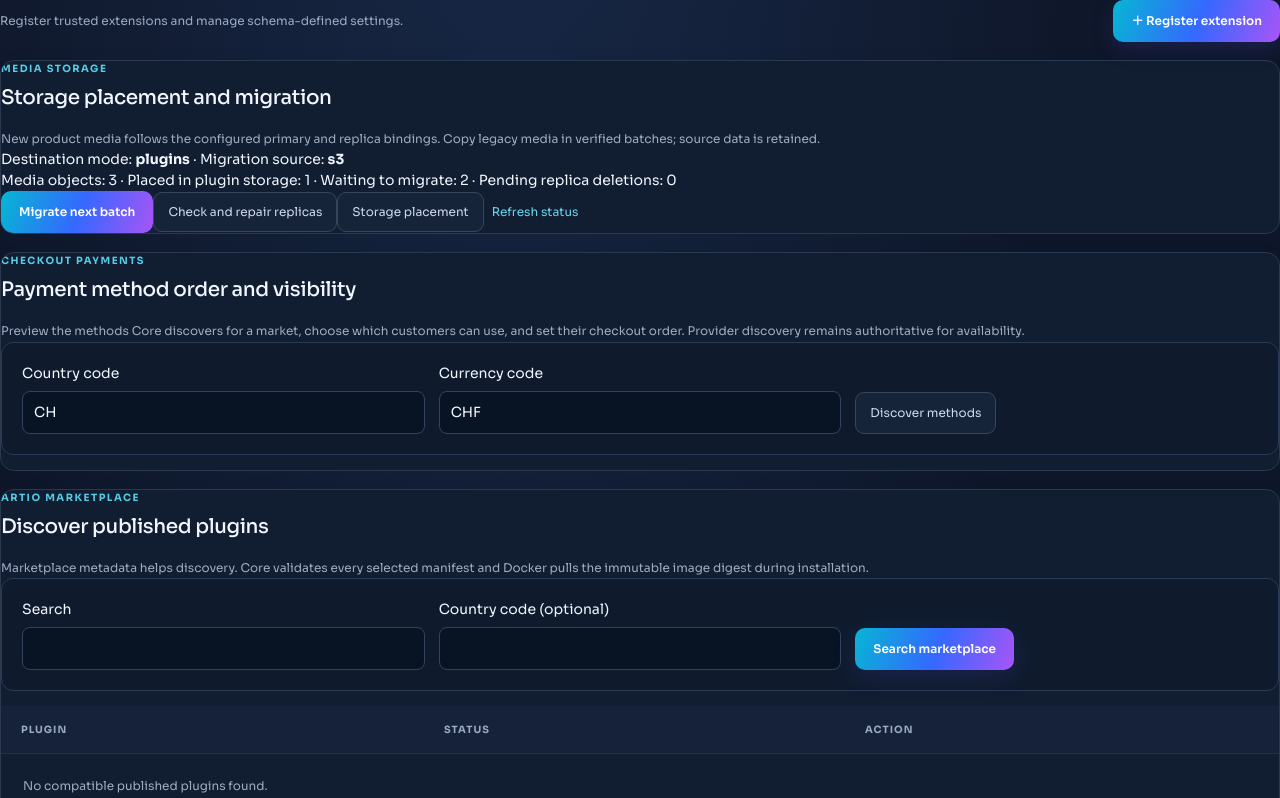
Test case: ExtensionAdminComponent › shows storage placement status and advances verified migration one bounded batch at a time
Click the button "Migrate next batch": (77, 212) top-left (1, 191), bottom-right (153, 233)
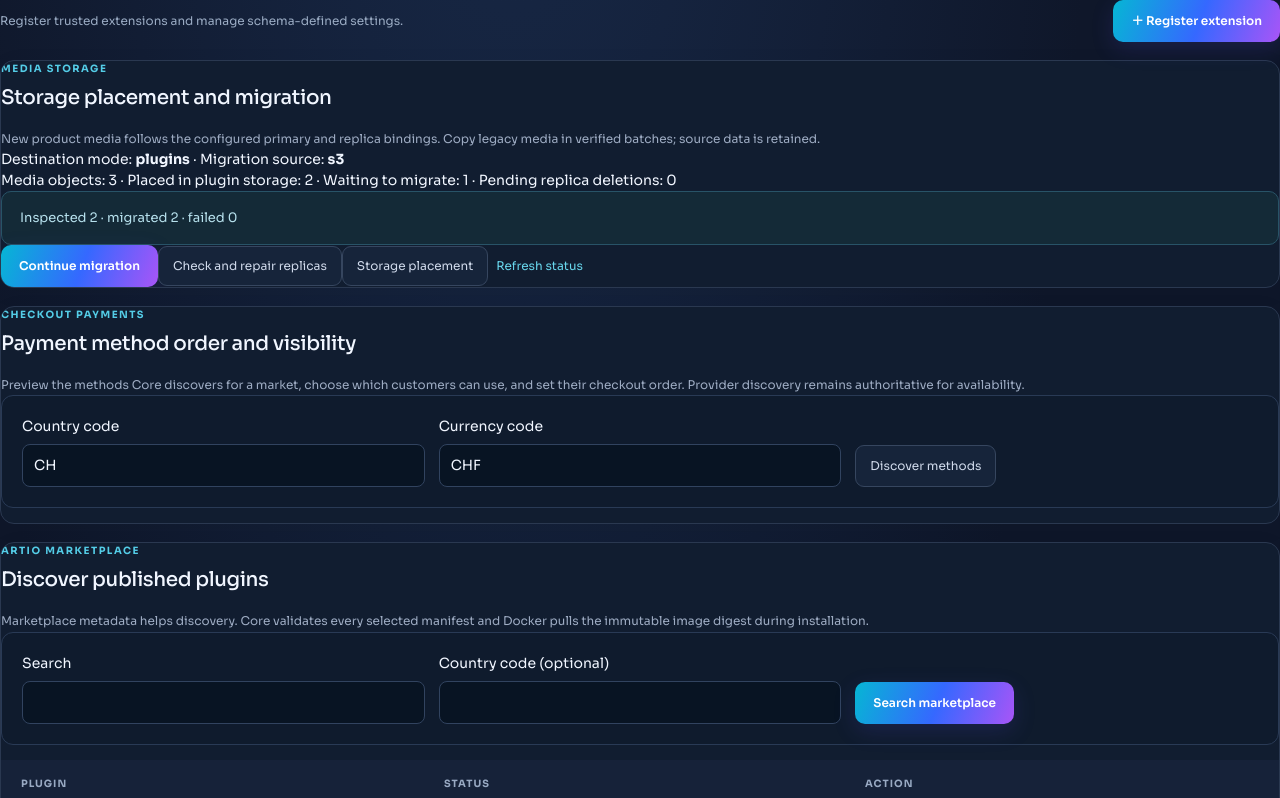
expect the text "Inspected 2 · migrated 2 · failed 0" is shown: met, box top-left (20, 209), bottom-right (237, 226)
Click the button "Continue migration": (79, 266) top-left (1, 245), bottom-right (158, 287)
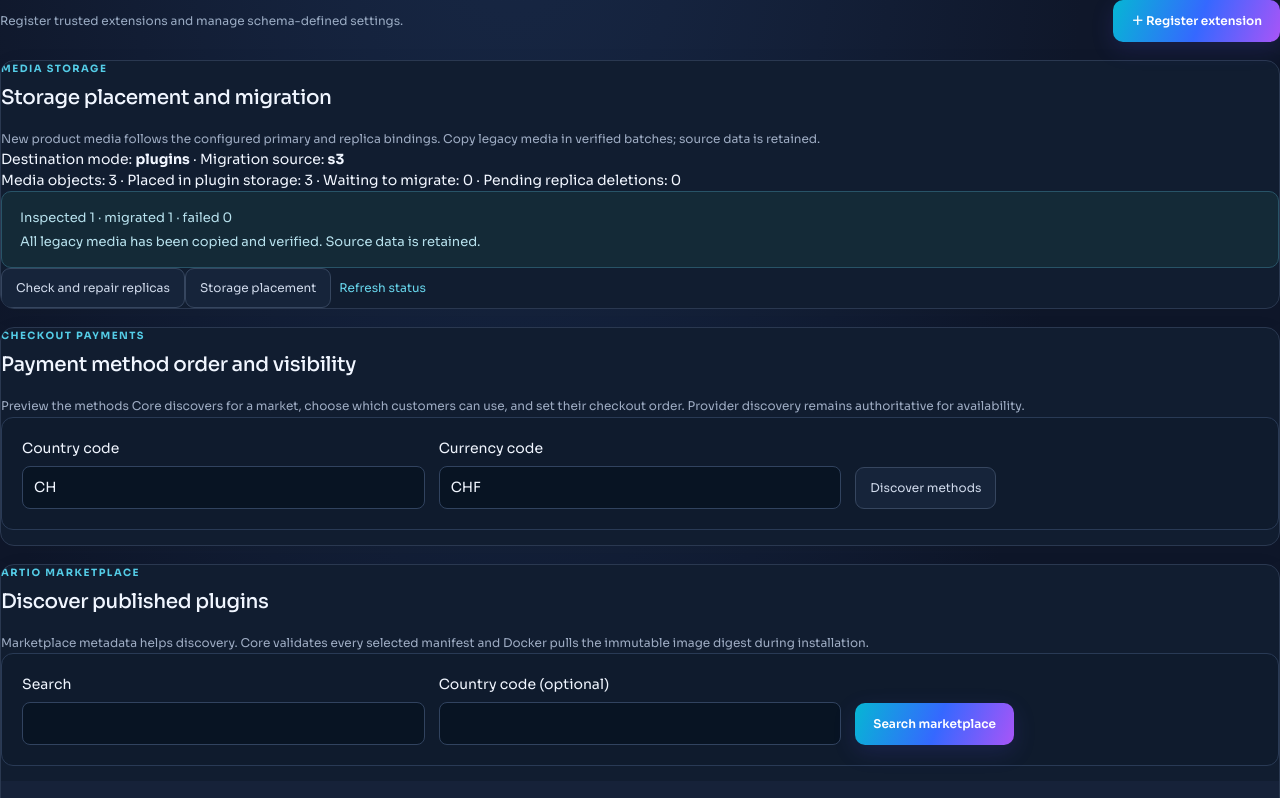
expect the text "All legacy media has been copied and verified. Source data is retained." is shown: met, box top-left (20, 233), bottom-right (480, 250)
